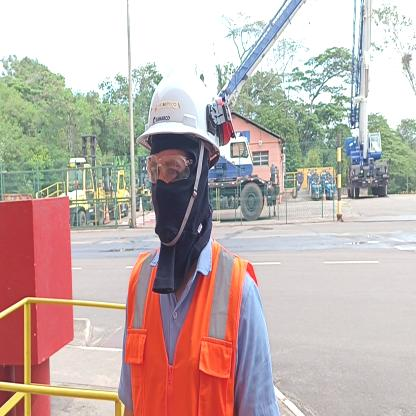Balaclava: (150, 141, 211, 260)
Capacete: (146, 63, 227, 142)
colete: (132, 252, 244, 416)
